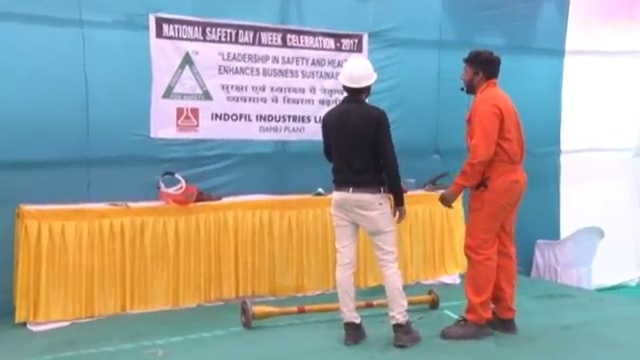helmet: (337, 56, 379, 89)
helmet_off: (459, 50, 501, 94)
helmet_on: (336, 57, 378, 108)
person: (316, 53, 427, 347), (439, 43, 528, 345)
